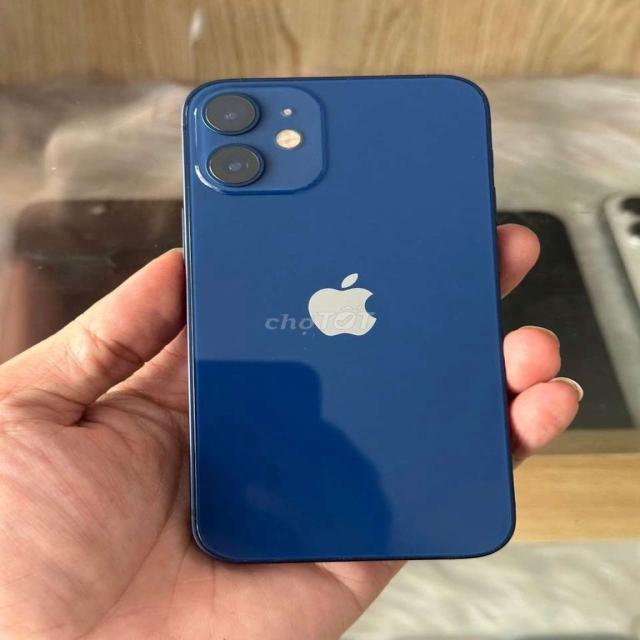gen_12_13: (163, 68, 538, 576)
